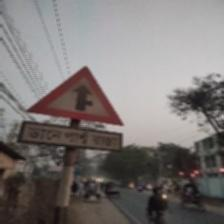Side-road-right: (20, 66, 125, 153)
